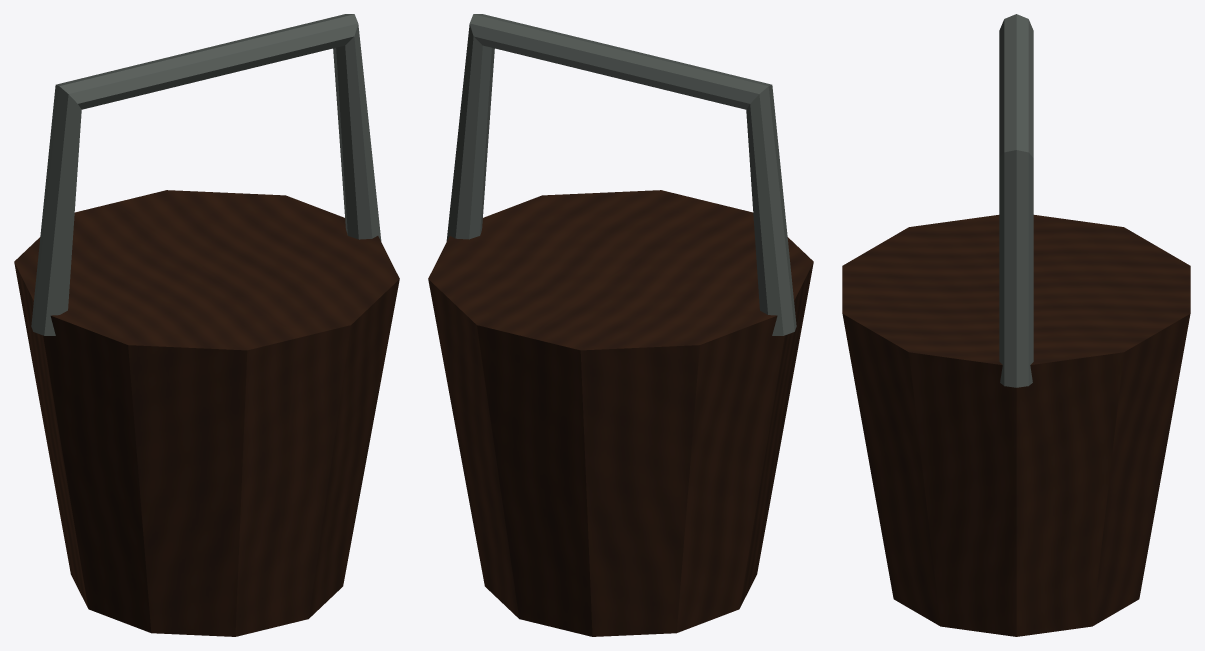
File: module_wood_bucket.glb
The picture shows the model from 3 angles, left to right: view 1: azimuth 30°, elevation 25°; view 2: azimuth 150°, elevation 25°; view 3: azimuth 270°, elevation 25°; orthographic projection. The views are drawn at different scales.
Visible parts, largest first — view 1: bucket, handle.012; view 2: bucket, handle.012; view 3: bucket, handle.012.
Part boxes in pixels (bbox=[...]): bucket: bbox=[14, 190, 399, 636]; handle.012: bbox=[31, 14, 381, 335]; bucket: bbox=[428, 190, 813, 636]; handle.012: bbox=[446, 14, 796, 335]; bucket: bbox=[842, 215, 1190, 636]; handle.012: bbox=[999, 14, 1033, 387].
Size of the model in its own units: 0.3519 by 0.5129 by 0.3234.
Materials: 2 (1 with a texture image).
